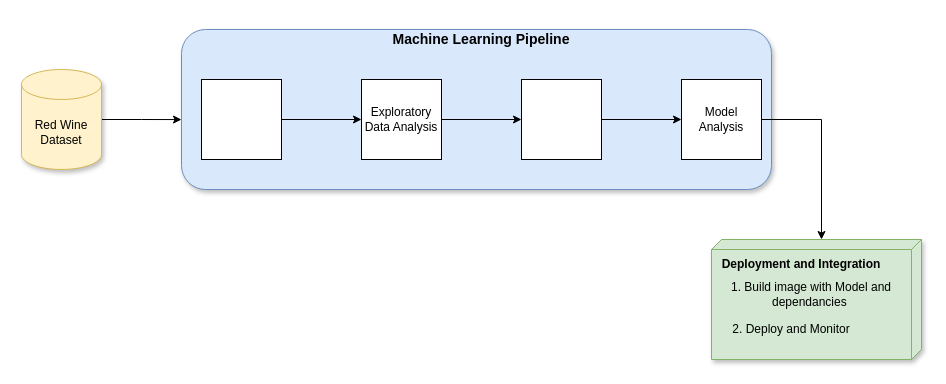
Image size: 946x384. Some labels were removed from this diagram. The centre of each missing label's shape, as x and y in pixels:
"Data Pre-Processing" goes at (241,119).
"Model Training" goes at (561,119).
